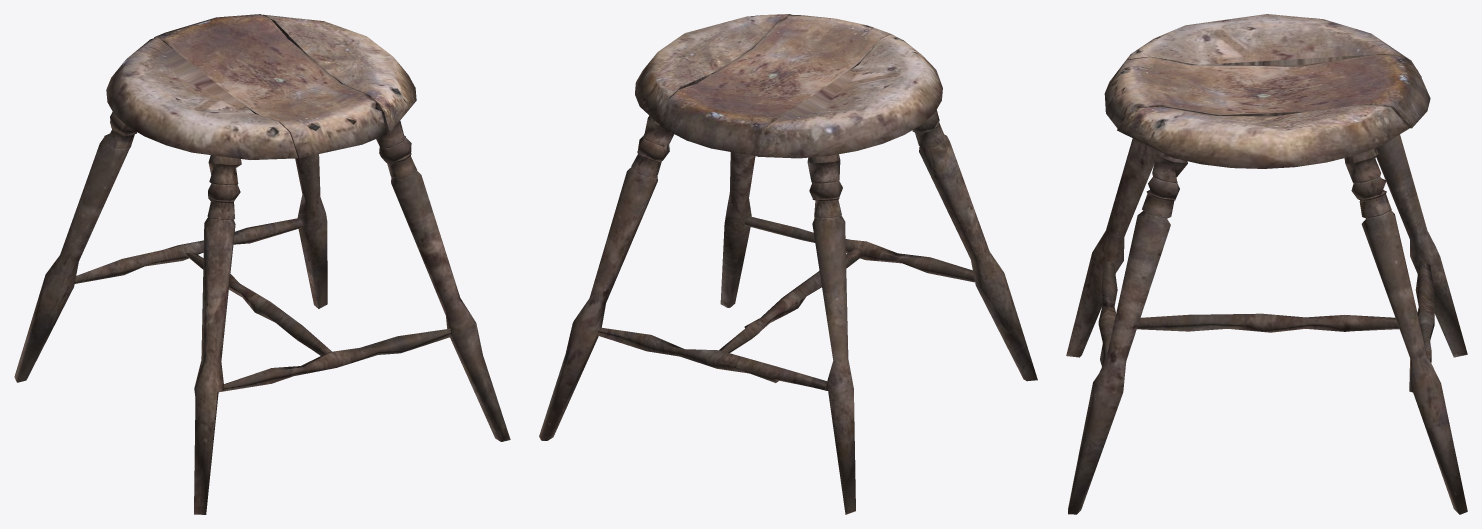
3 renders of one model, left to right at view 1: azimuth 30°, elevation 25°; view 2: azimuth 150°, elevation 25°; view 3: azimuth 270°, elevation 25°, orthographic. The views are drawn at different scales.
Parts seen in each view (by area): view 1: wooden_stool_01; view 2: wooden_stool_01; view 3: wooden_stool_01.
Part boxes in pixels (x1,y1,x2,y2): wooden_stool_01: (14, 14, 510, 514); wooden_stool_01: (539, 14, 1037, 514); wooden_stool_01: (1066, 14, 1467, 514).
Bounding box in the file's own units: 0.4246 × 0.4365 × 0.4411.
Materials: 1 (1 with a texture image).
